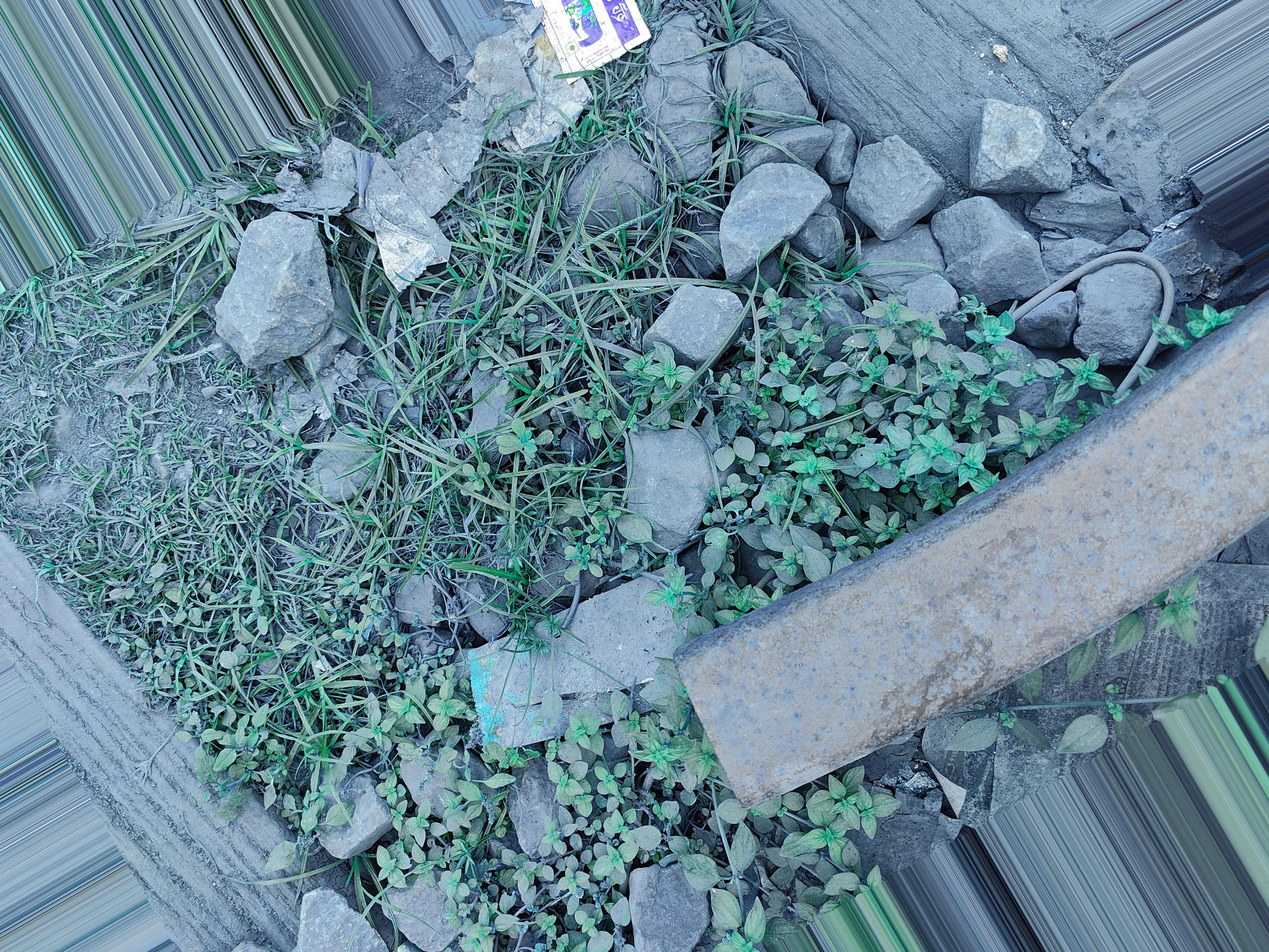tracks_fault: (112, 643, 857, 897)
